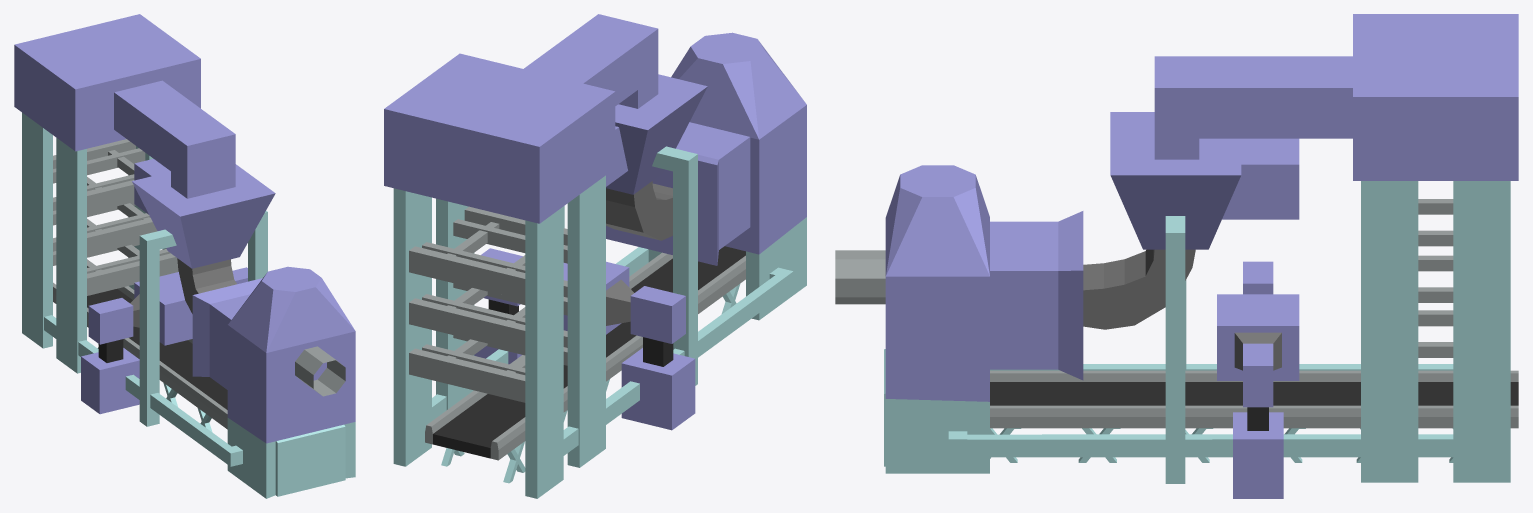
File: Distribuidor.fbx
The picture shows the model from 3 angles, left to right: view 1: azimuth 30°, elevation 25°; view 2: azimuth 150°, elevation 25°; view 3: azimuth 270°, elevation 25°; orthographic projection. The views are drawn at different scales.
Visible parts, largest first — view 1: Cube.001; view 2: Cube.001; view 3: Cube.001.
Boxes of the visible parts, x1,y1,x2,y2 form: Cube.001: (14, 14, 355, 498); Cube.001: (384, 14, 806, 498); Cube.001: (835, 14, 1518, 498).
Size of the model in its own units: 424 by 703 by 1120.
